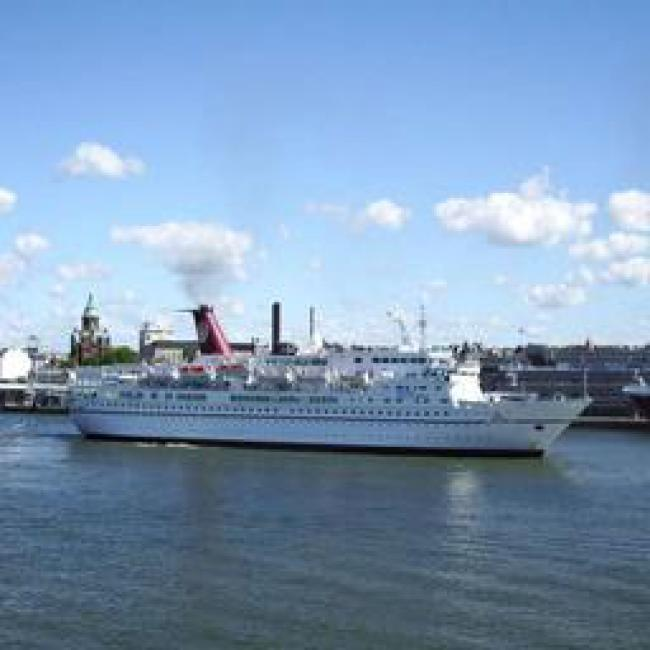Ship: (66, 354, 580, 457)
